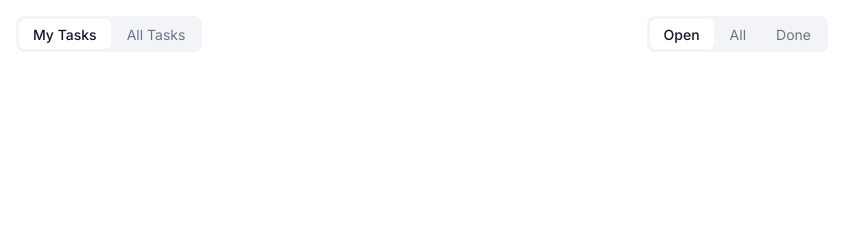
Test: Tasks page › explains an empty Done list differently
This screenshot has width=845, height=244.
Click the radio button labelled "Done".
click(794, 34)  # box [762,19,825,49]
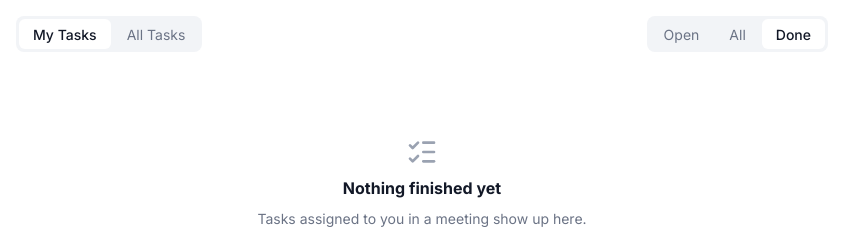
Expected: the text "Nothing finished yet" is shown, [343,176,501,200]
